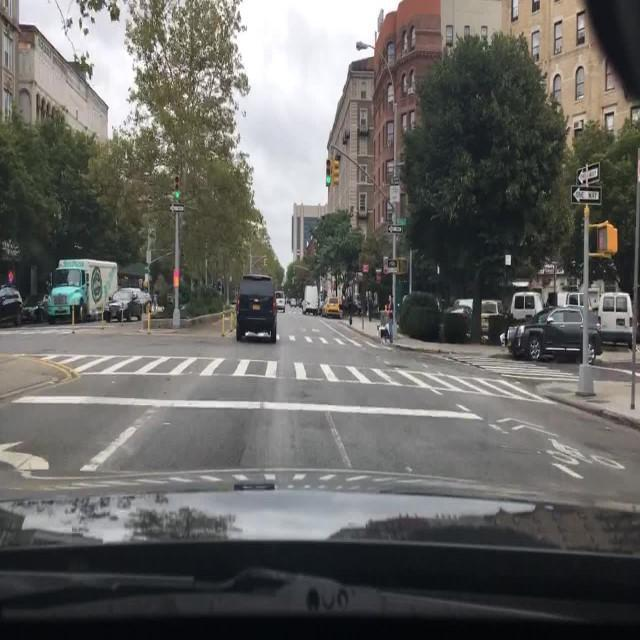normal: (507, 309, 605, 364), (45, 259, 120, 324), (439, 299, 504, 345), (233, 271, 275, 340), (102, 289, 145, 324), (0, 285, 24, 326), (319, 302, 342, 319)
